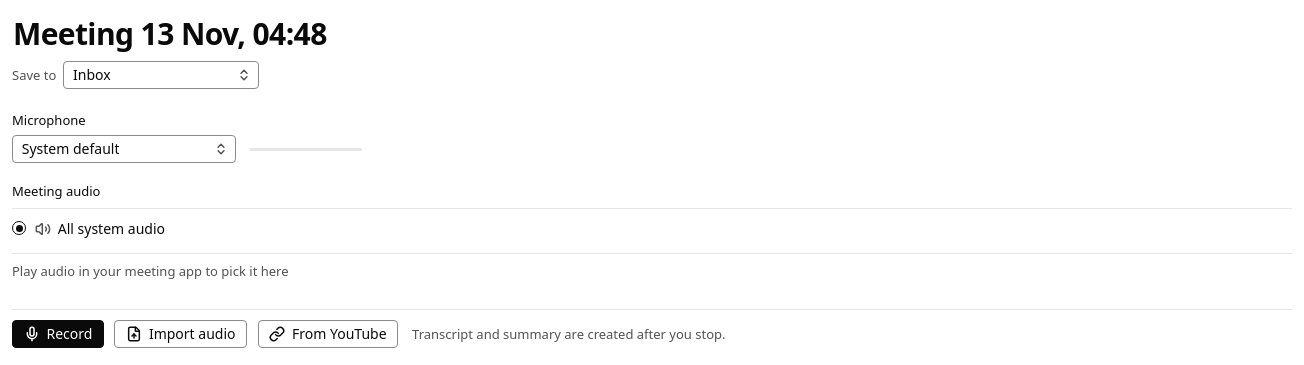
Scenario: RecordRoute idle zone (spec 2.1, 2.2) › shows the default title, the destination list and the hero when ready
Expected: the button "Record" is enabled, [12,320,104,348]
Expected: the button "Import audio" is enabled, [114,320,247,348]
Click the dropdown named "Save to" at (161, 75), box [63,61,259,89]
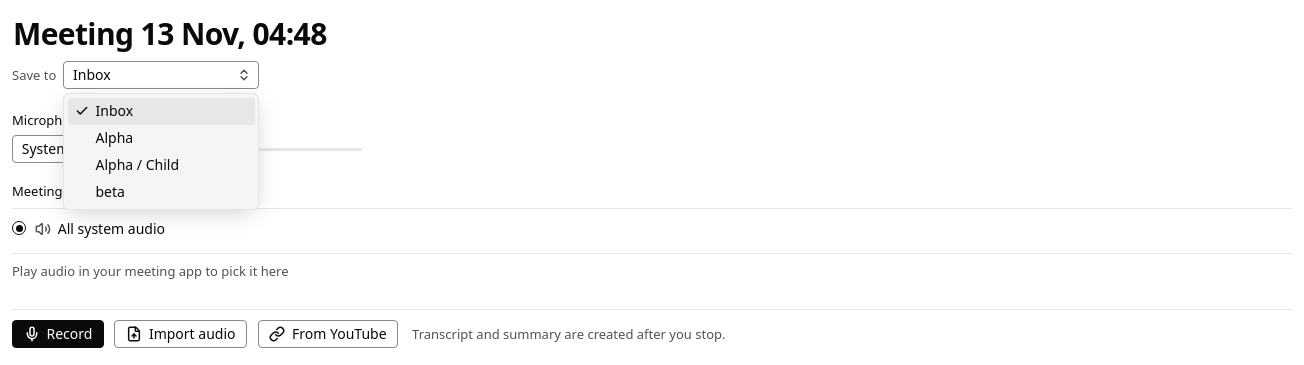
Expected: the options read "Inbox", "Alpha", "Alpha / Child", "beta", in this order, [68,98,254,124]; [96,128,133,147]; [96,155,179,174]; [96,182,125,201]
